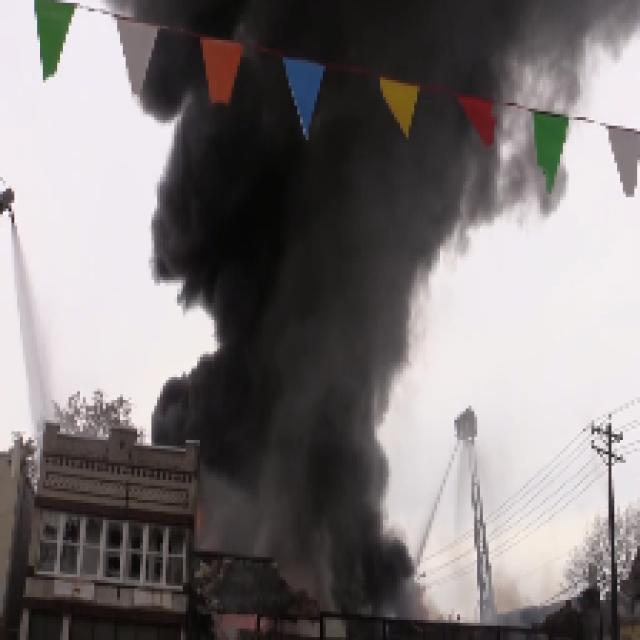Smoke: (140, 137, 449, 434), (202, 448, 418, 554), (423, 3, 640, 83)
